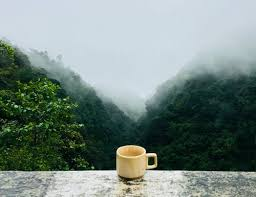cup: (113, 144, 164, 184)
